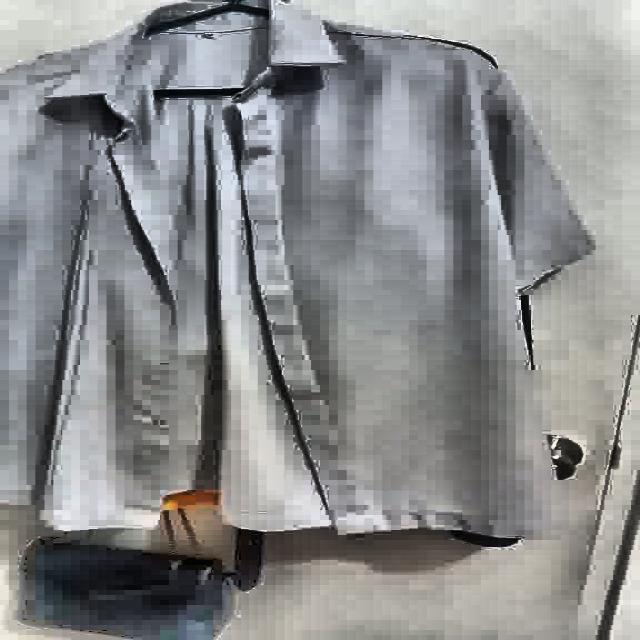clothes: (0, 0, 596, 550)
